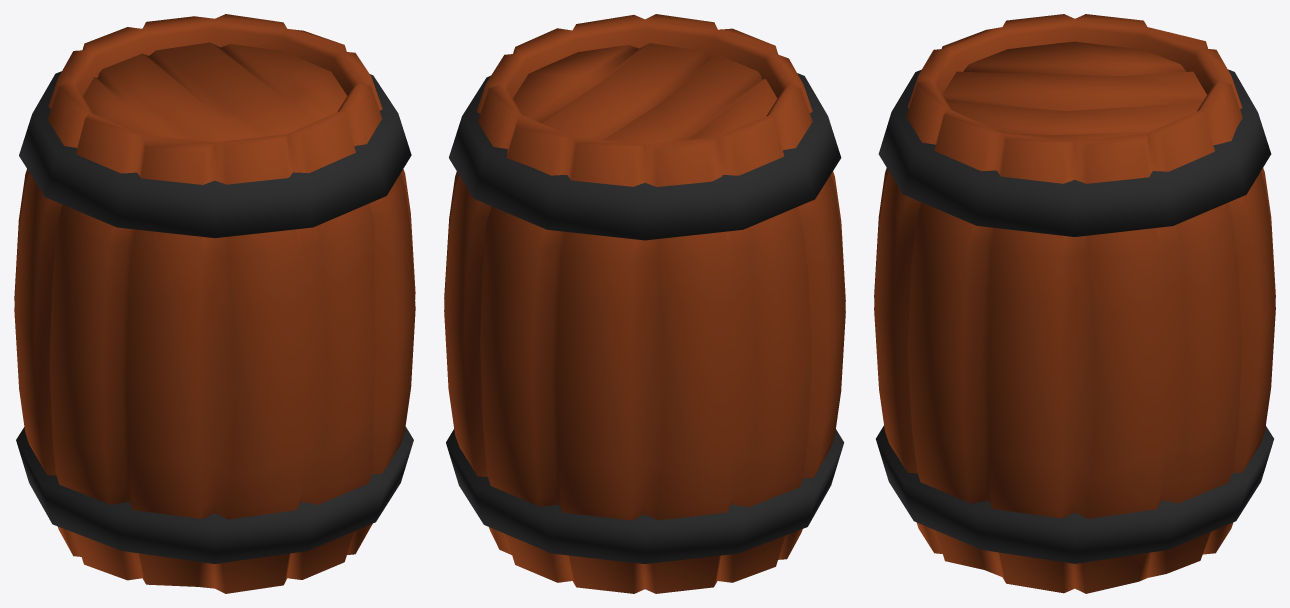
The model's file is BarrelParts.fbx.
3 views of the same model, side by side, from view 1: azimuth 30°, elevation 25°; view 2: azimuth 150°, elevation 25°; view 3: azimuth 270°, elevation 25° (orthographic).
Visible parts, largest first — view 1: BarrelPart.003, BarrelPart, BarrelPart.004, BarrelPart.001, BarrelPart.005; view 2: BarrelPart.003, BarrelPart, BarrelPart.004, BarrelPart.001, BarrelPart.005; view 3: BarrelPart.003, BarrelPart, BarrelPart.004, BarrelPart.001, BarrelPart.005.
Boxes of the visible parts, x1=… form: BarrelPart.003: x1=14, y1=14, x2=415, y2=400; BarrelPart: x1=14, y1=293, x2=415, y2=593; BarrelPart.004: x1=19, y1=71, x2=411, y2=237; BarrelPart.001: x1=83, y1=42, x2=347, y2=142; BarrelPart.005: x1=16, y1=427, x2=413, y2=563; BarrelPart.003: x1=444, y1=14, x2=845, y2=390; BarrelPart: x1=444, y1=298, x2=845, y2=593; BarrelPart.004: x1=449, y1=73, x2=841, y2=240; BarrelPart.001: x1=513, y1=43, x2=777, y2=144; BarrelPart.005: x1=446, y1=429, x2=844, y2=563; BarrelPart.003: x1=874, y1=14, x2=1275, y2=402; BarrelPart: x1=874, y1=296, x2=1275, y2=593; BarrelPart.004: x1=878, y1=69, x2=1271, y2=236; BarrelPart.001: x1=942, y1=41, x2=1206, y2=141; BarrelPart.005: x1=876, y1=426, x2=1273, y2=563.
Size of the model in its own units: 81.51 by 100 by 81.24.
1 material, 1 textured.
